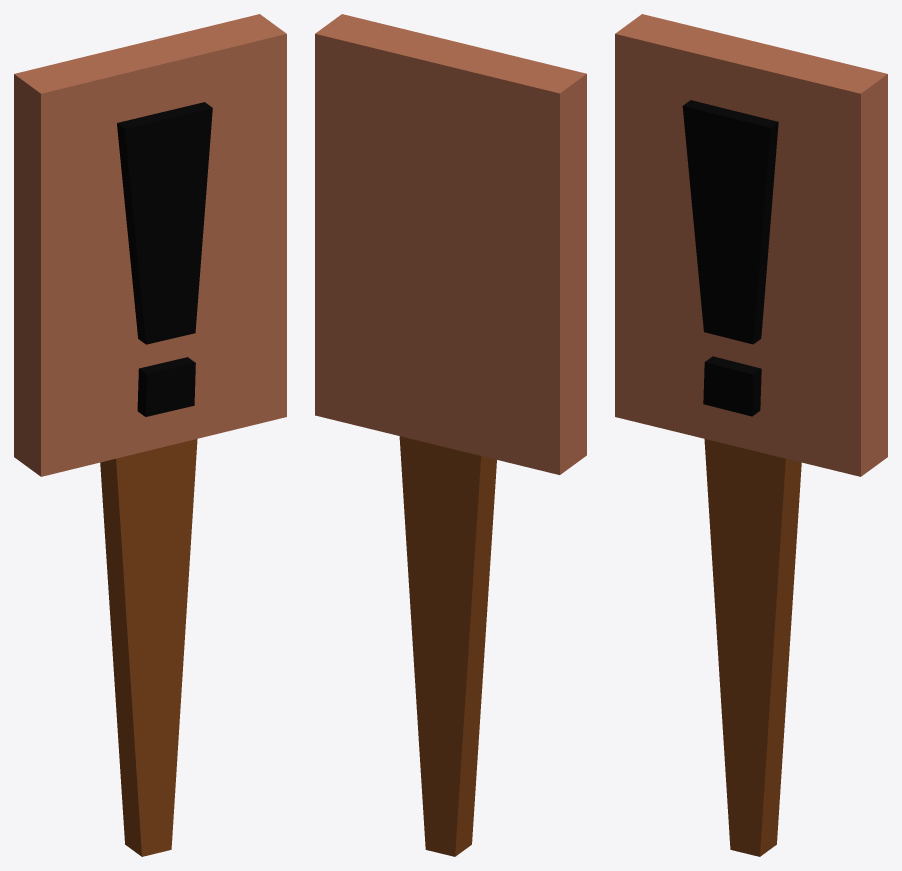
Rendered from Sellers Price Notice 03.fbx.
The picture shows the model from 3 angles, left to right: view 1: azimuth 30°, elevation 25°; view 2: azimuth 150°, elevation 25°; view 3: azimuth 330°, elevation 25°; orthographic projection.
Parts seen in each view (by area): view 1: Sellers Price Notice 03; view 2: Sellers Price Notice 03; view 3: Sellers Price Notice 03.
Boxes of the visible parts, x1,y1,x2,y2 form: Sellers Price Notice 03: (14, 14, 286, 856); Sellers Price Notice 03: (315, 14, 586, 856); Sellers Price Notice 03: (615, 14, 887, 856).
Bounding box in the file's own units: 30.42 × 94.01 × 7.54.
